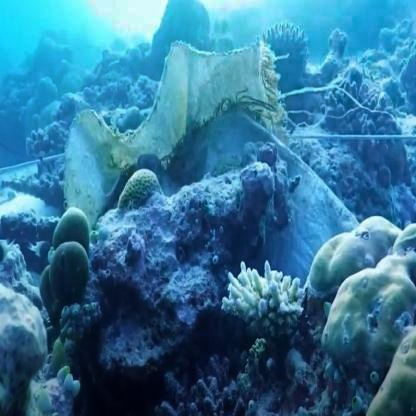plastic: (63, 75, 295, 166)
